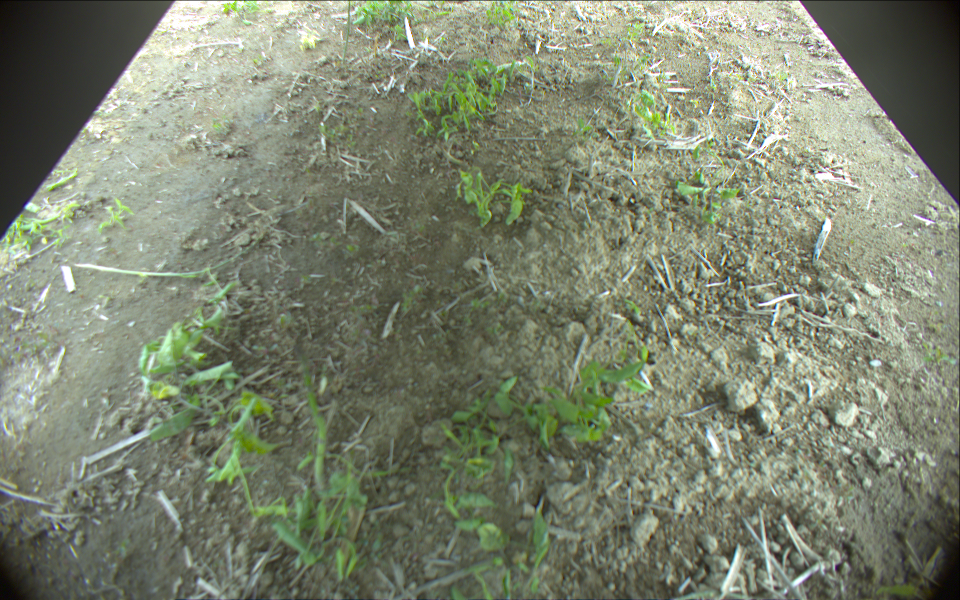aspa: (296, 358, 331, 490), (342, 1, 352, 64)
